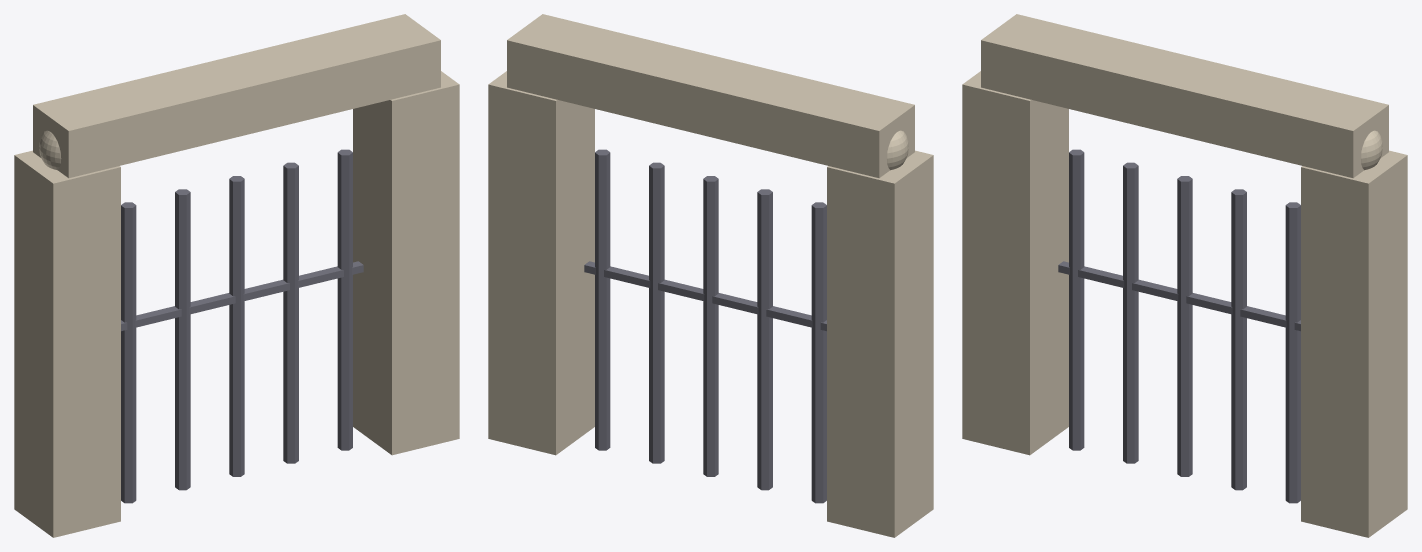
File: gate.glb
The picture shows the model from 3 angles, left to right: view 1: azimuth 30°, elevation 25°; view 2: azimuth 150°, elevation 25°; view 3: azimuth 330°, elevation 25°; orthographic projection.
Visible parts, largest first — view 1: Cube, Cube.001, Cube.002, Cylinder.001, Cylinder, Cylinder.003, Cylinder.002, Cylinder.004, Cube.003, Sphere; view 2: Cube, Cube.001, Cube.002, Cylinder.001, Cylinder, Cylinder.003, Cylinder.002, Cylinder.004, Cube.003, Sphere; view 3: Cube.001, Cube, Cube.002, Cylinder.003, Cylinder.004, Cylinder.001, Cylinder, Cylinder.002, Cube.003, Sphere.001.
Boxes of the visible parts, x1,y1,x2,y2 form: Cube: (14, 150, 120, 537); Cube.001: (353, 71, 459, 455); Cube.002: (33, 14, 440, 178); Cylinder.001: (175, 189, 190, 490); Cylinder: (121, 202, 136, 503); Cylinder.003: (283, 162, 298, 463); Cylinder.002: (229, 176, 244, 476); Cylinder.004: (337, 149, 352, 450); Cube.003: (121, 261, 363, 331); Sphere: (39, 130, 61, 170); Cube: (827, 150, 933, 537); Cube.001: (488, 71, 594, 455); Cube.002: (507, 14, 914, 178); Cylinder.001: (757, 189, 772, 490); Cylinder: (811, 202, 826, 503); Cylinder.003: (649, 162, 664, 463); Cylinder.002: (703, 176, 718, 476); Cylinder.004: (595, 149, 610, 450); Cube.003: (584, 261, 826, 331); Sphere: (886, 130, 908, 170); Cube.001: (1301, 150, 1407, 537); Cube: (962, 71, 1068, 455); Cube.002: (981, 14, 1388, 178); Cylinder.003: (1231, 189, 1246, 490); Cylinder.004: (1285, 202, 1300, 503); Cylinder.001: (1123, 162, 1138, 463); Cylinder: (1069, 149, 1084, 450); Cylinder.002: (1177, 176, 1192, 476); Cube.003: (1058, 261, 1300, 331); Sphere.001: (1360, 130, 1382, 170).
Size of the model in its own units: 3.6 by 3.4 by 0.6.
